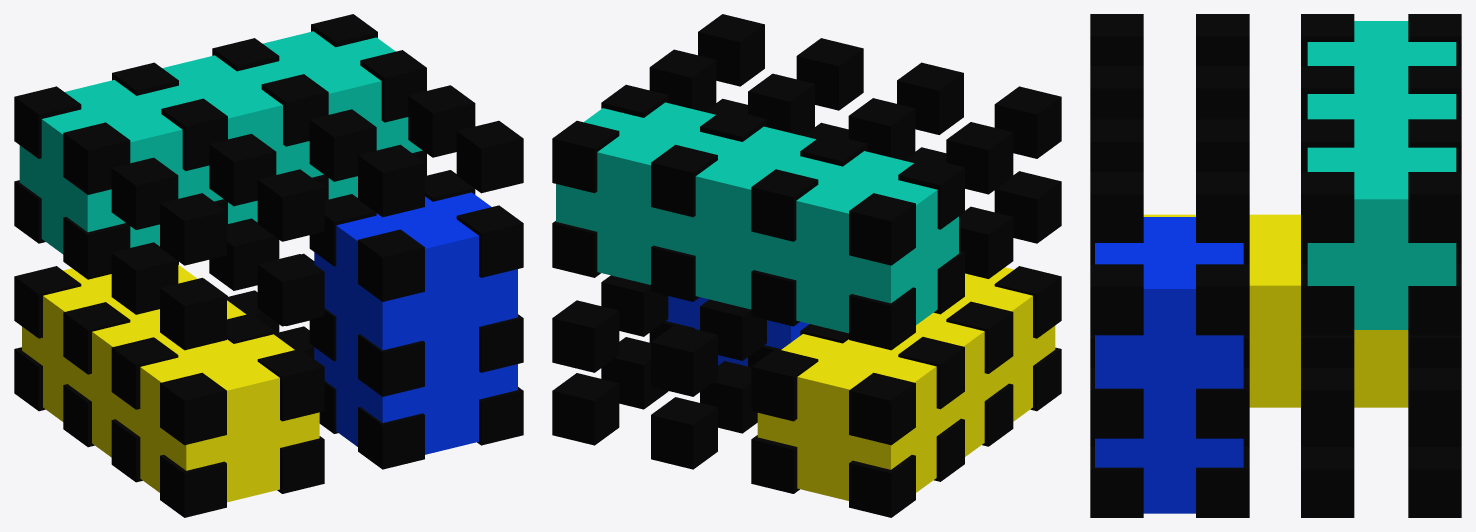
Rendered from prolog.glb.
3 renders of one model, left to right at view 1: azimuth 30°, elevation 25°; view 2: azimuth 150°, elevation 25°; view 3: azimuth 270°, elevation 25°, orthographic. The views are drawn at different scales.
Visible parts, largest first — view 1: pCube65, pCube67, pCube66, pCube64, pCube40, pCube56, pCube44, pCube36, pCube60, pCube29, pCube52, pCube55 (+36 smaller); view 2: pCube65, pCube66, pCube4, pCube20, pCube24, pCube49, pCube32, pCube8, pCube52, pCube60, pCube51, pCube56 (+32 smaller); view 3: pCube65, pCube67, pCube66, pCube48, pCube47, pCube20, pCube19, pCube3, pCube4, pCube64, pCube63, pCube62 (+23 smaller).
Boxes of the visible parts, x1,y1,x2,y2 form: pCube65: [19, 31, 422, 254]; pCube67: [314, 192, 517, 454]; pCube66: [22, 265, 319, 502]; pCube64: [456, 120, 523, 193]; pCube40: [257, 254, 324, 326]; pCube56: [257, 169, 324, 241]; pCube44: [358, 229, 424, 301]; pCube36: [160, 277, 226, 350]; pCube60: [358, 144, 424, 217]; pCube29: [160, 372, 226, 445]; pCube52: [160, 193, 226, 265]; pCube55: [209, 133, 276, 206]; pCube65: [556, 102, 958, 333]; pCube66: [757, 267, 1055, 500]; pCube4: [552, 373, 619, 445]; pCube20: [552, 300, 619, 372]; pCube24: [651, 324, 717, 396]; pCube49: [849, 193, 915, 265]; pCube32: [849, 372, 915, 445]; pCube8: [651, 397, 717, 469]; pCube52: [994, 86, 1061, 158]; pCube60: [796, 38, 863, 110]; pCube51: [946, 122, 1013, 194]; pCube56: [897, 62, 963, 134]; pCube65: [1307, 21, 1456, 329]; pCube67: [1095, 217, 1243, 513]; pCube66: [1143, 214, 1408, 407]; pCube48: [1090, 264, 1143, 335]; pCube47: [1196, 264, 1249, 335]; pCube20: [1408, 367, 1461, 438]; pCube19: [1301, 367, 1354, 438]; pCube3: [1301, 447, 1354, 517]; pCube4: [1408, 447, 1461, 517]; pCube64: [1090, 172, 1143, 242]; pCube63: [1196, 172, 1249, 242]; pCube62: [1301, 172, 1354, 242].
Bounding box in the file's own units: 8 × 6.68 × 6.95.
